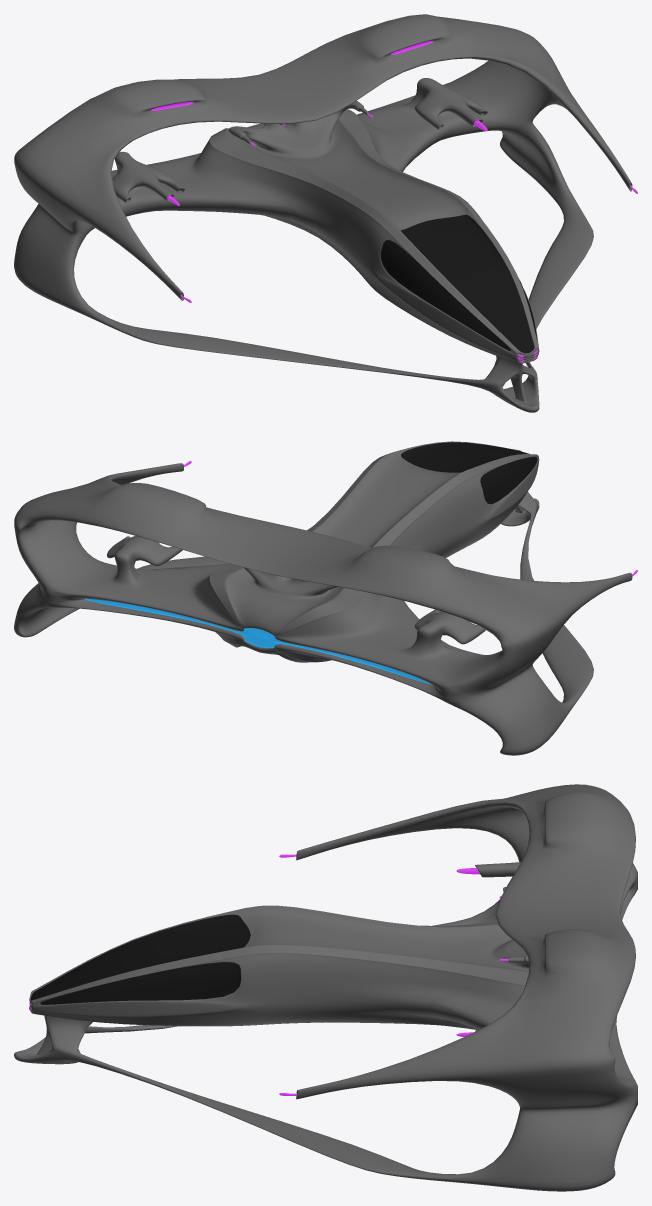
The model's file is mercy-scene-transformed.glb.
The picture shows the model from 3 angles, top to bottom: view 1: azimuth 30°, elevation 25°; view 2: azimuth 150°, elevation 25°; view 3: azimuth 270°, elevation 25°; orthographic projection. The views are drawn at different scales.
Parts seen in each view (by area): view 1: alien battle fighter_ancient procedural stone 3_0, alien battle fighter_black glass_0, alien battle fighter_pulse_0; view 2: alien battle fighter_ancient procedural stone 3_0, alien battle fighter_black glass_0, alien battle fighter_engines_0; view 3: alien battle fighter_ancient procedural stone 3_0, alien battle fighter_black glass_0.
Boxes of the visible parts, bbox=[...] form: alien battle fighter_ancient procedural stone 3_0: bbox=[14, 14, 632, 412]; alien battle fighter_black glass_0: bbox=[380, 214, 537, 353]; alien battle fighter_pulse_0: bbox=[151, 40, 637, 363]; alien battle fighter_ancient procedural stone 3_0: bbox=[14, 441, 632, 755]; alien battle fighter_black glass_0: bbox=[401, 442, 537, 504]; alien battle fighter_engines_0: bbox=[84, 598, 430, 684]; alien battle fighter_ancient procedural stone 3_0: bbox=[14, 784, 637, 1191]; alien battle fighter_black glass_0: bbox=[30, 914, 250, 1004].
Size of the model in its own units: 17.29 by 5.46 by 16.53.
4 materials, 4 textured.
